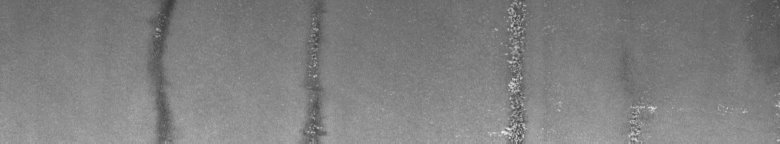hc: (488, 4, 561, 136)
